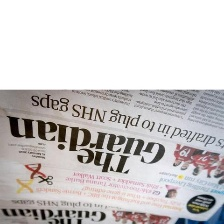news_paper: (0, 89, 224, 223), (0, 195, 183, 224)
